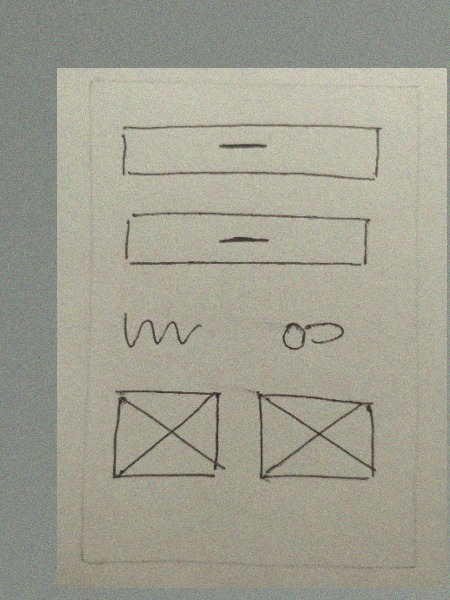button: (112, 117, 386, 187), (120, 205, 379, 275)
image: (249, 386, 389, 491), (102, 376, 233, 487)
switch: (264, 311, 355, 357)
text: (118, 302, 205, 357)
